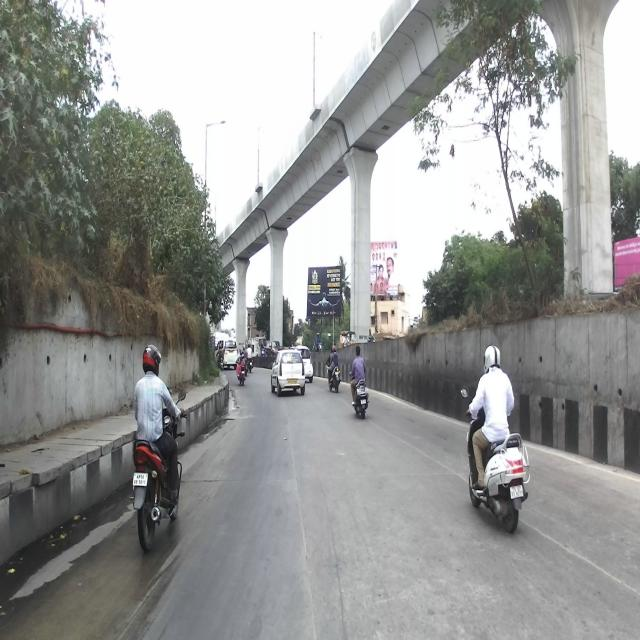Car_TATA: (270, 346, 306, 397)
motorcycle_Hero: (128, 388, 187, 550)
scooter: (460, 387, 530, 532), (348, 371, 369, 418)
